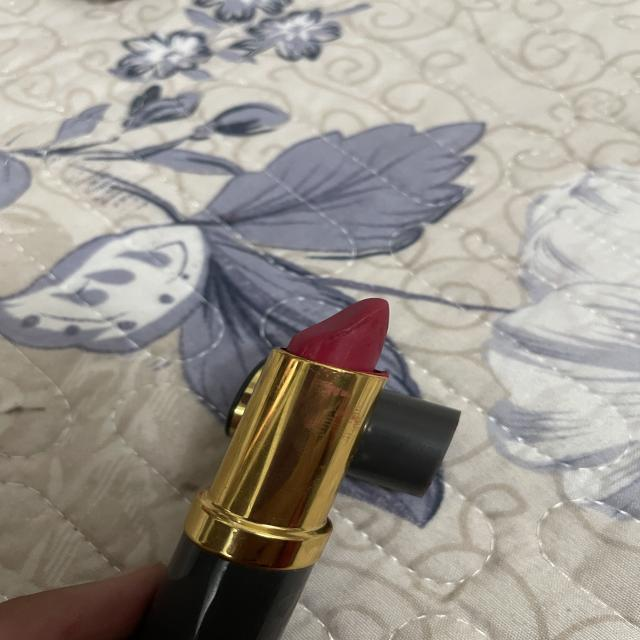lip stick: (138, 289, 402, 640)
